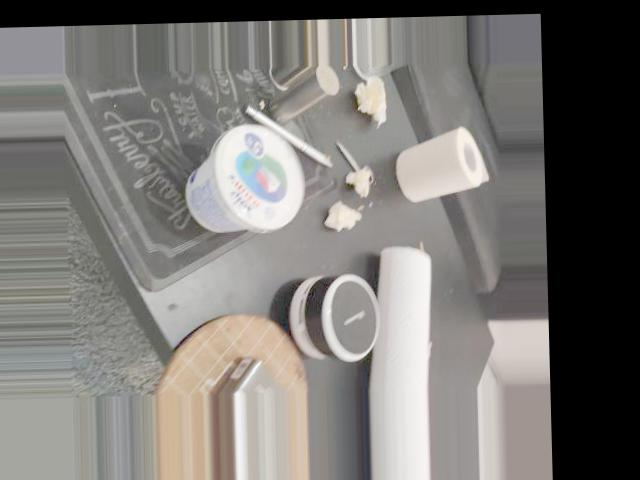cotage: (176, 122, 298, 228)
